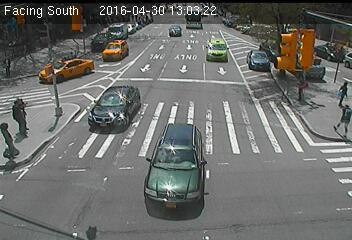neg: (176, 147, 204, 185), (140, 150, 163, 180), (88, 214, 102, 232)
pos: (337, 102, 351, 134)
